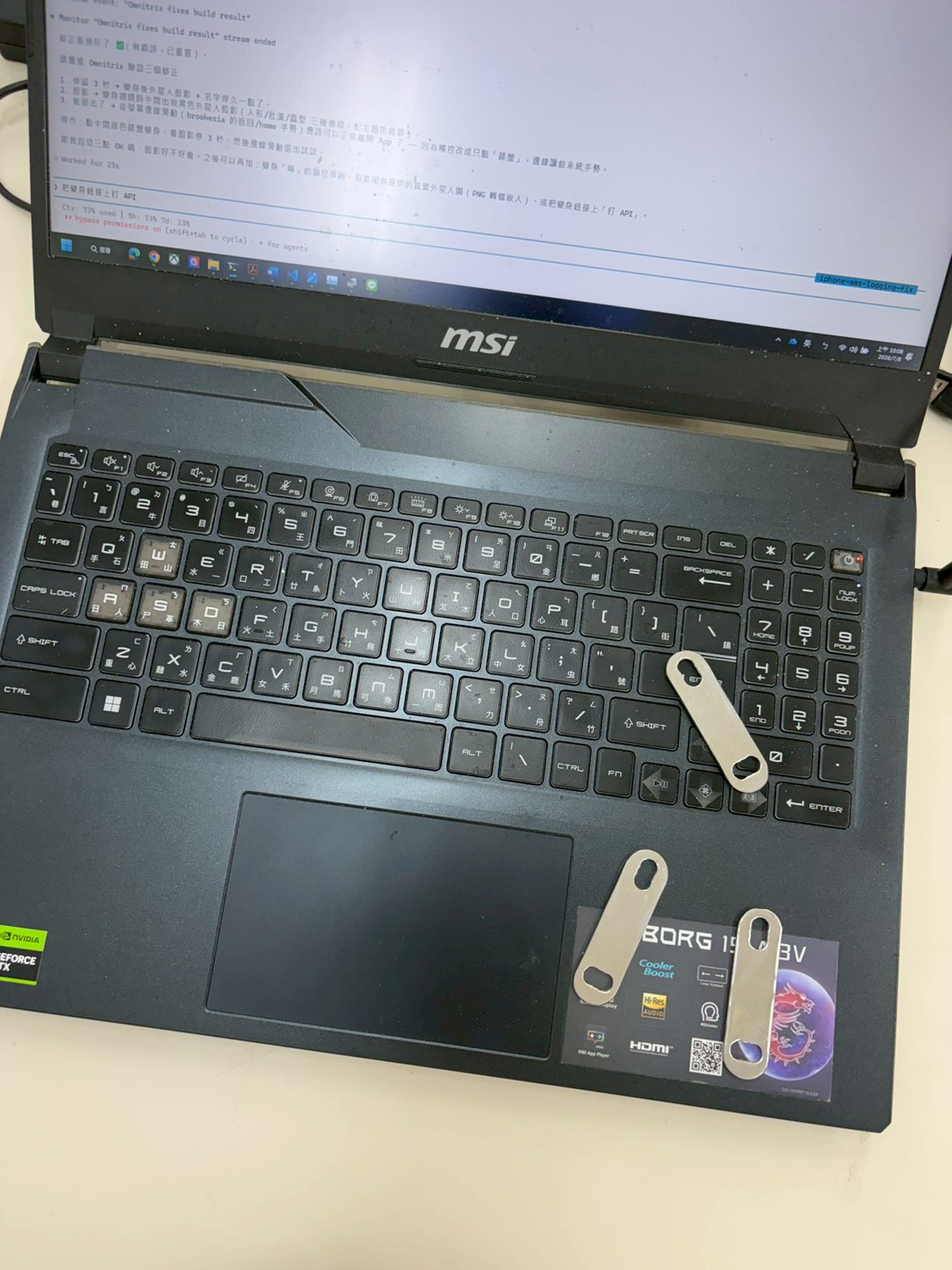Fe: (567, 847, 677, 1006), (700, 913, 809, 1072), (664, 638, 773, 797)
